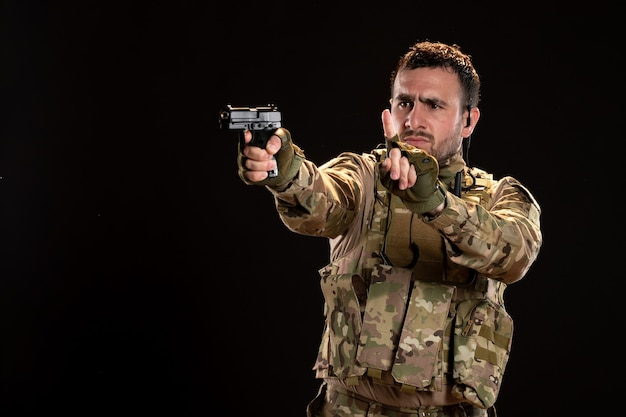gun: (217, 102, 282, 177)
